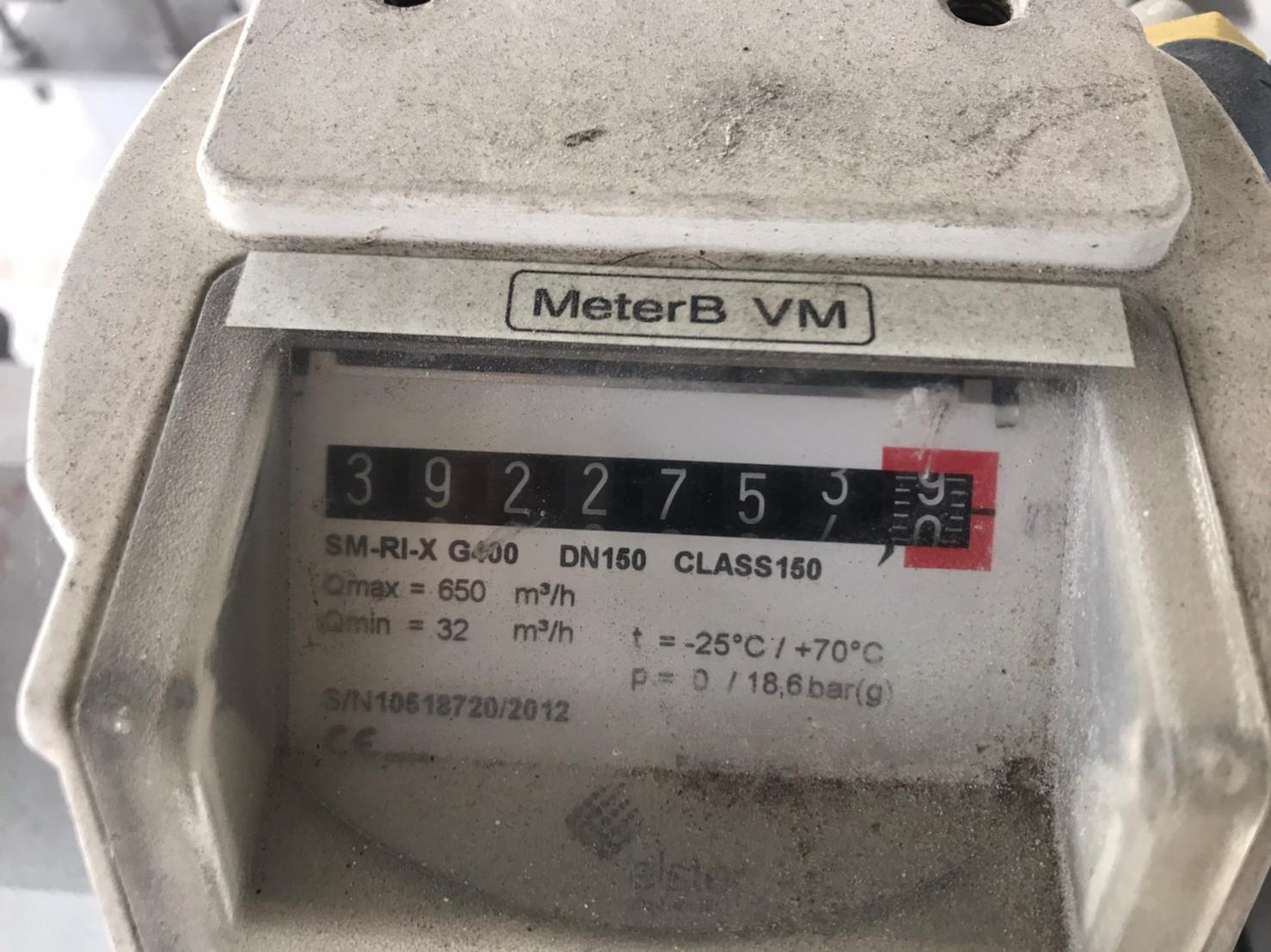analog_dial: (313, 407, 1004, 578)
